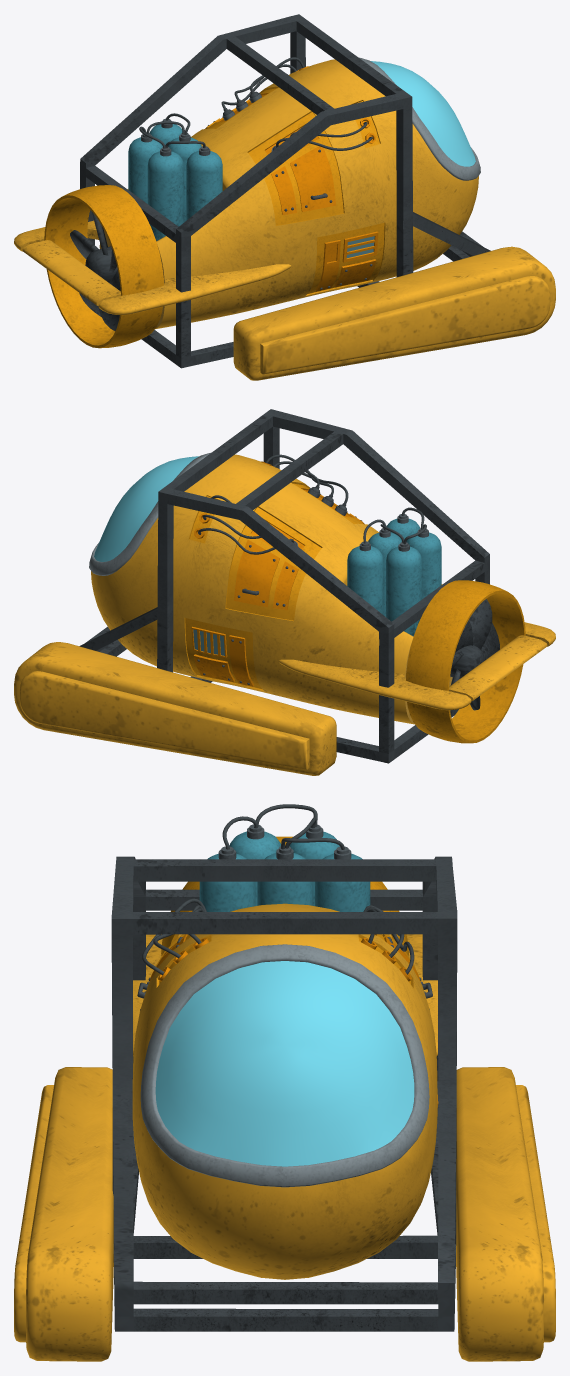
The model's file is MerSub.fbx.
3 views of the same model, one above another, from view 1: azimuth 30°, elevation 25°; view 2: azimuth 150°, elevation 25°; view 3: azimuth 270°, elevation 25° (orthographic). The views are drawn at different scales.
Parts seen in each view (by area): view 1: MerSub; view 2: MerSub; view 3: MerSub.
Part boxes in pixels (box(x1,y1,x2,y2)): MerSub: box(14, 14, 555, 380); MerSub: box(14, 409, 555, 775); MerSub: box(14, 804, 555, 1361).
Size of the model in its own units: 3.28 by 1.83 by 2.42.
